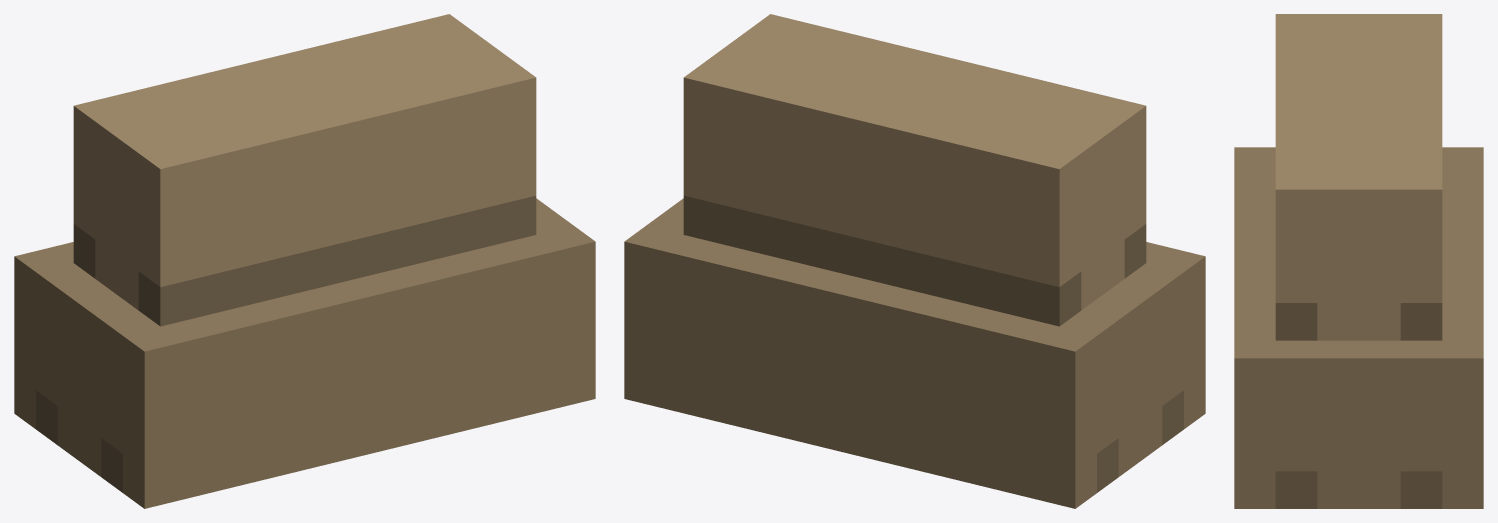
File: lena_apilada_03.glb
3 renders of one model, left to right at view 1: azimuth 30°, elevation 25°; view 2: azimuth 150°, elevation 25°; view 3: azimuth 270°, elevation 25°, orthographic. The views are drawn at different scales.
Visible parts, largest first — view 1: lena_apilada_03; view 2: lena_apilada_03; view 3: lena_apilada_03.
Boxes of the visible parts, x1,y1,x2,y2 form: lena_apilada_03: (14,14,595,508); lena_apilada_03: (624,14,1205,508); lena_apilada_03: (1234,14,1483,508).
Bounding box in the file's own units: 1.2 × 0.8 × 0.6.
